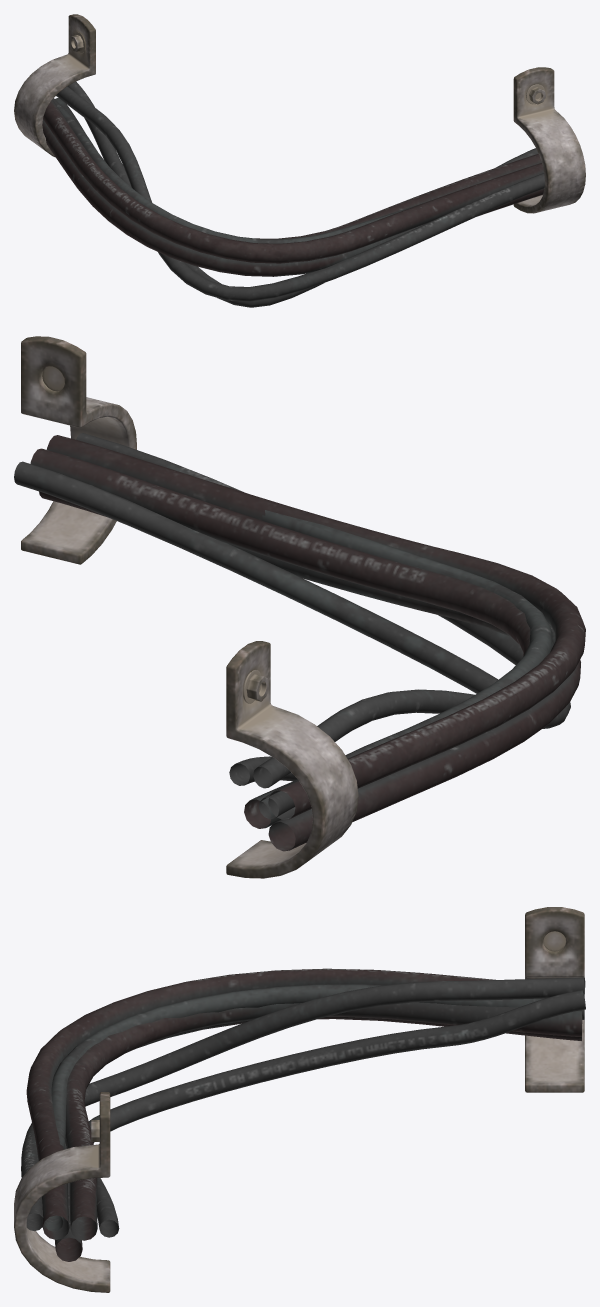
File: SM_Cable_Set_03a.fbx
The picture shows the model from 3 angles, top to bottom: view 1: azimuth 30°, elevation 25°; view 2: azimuth 150°, elevation 25°; view 3: azimuth 270°, elevation 25°; orthographic projection. The views are drawn at different scales.
Visible parts, largest first — view 1: SM_Cable_Set_03a_LOD0; view 2: SM_Cable_Set_03a_LOD0; view 3: SM_Cable_Set_03a_LOD0.
Part boxes in pixels (x1,y1,x2,y2): SM_Cable_Set_03a_LOD0: [14, 14, 585, 307]; SM_Cable_Set_03a_LOD0: [14, 336, 585, 878]; SM_Cable_Set_03a_LOD0: [14, 907, 585, 1292].
Size of the model in its own units: 63.12 by 60.3 by 26.29.
